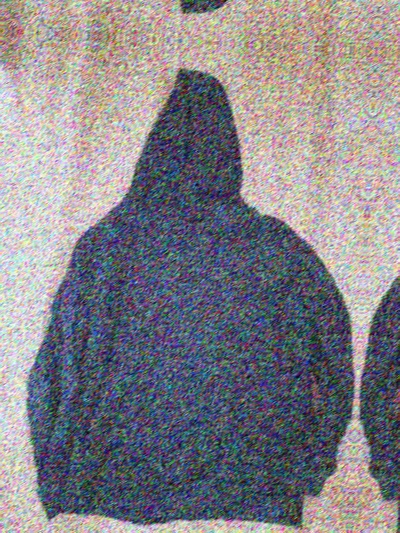Hoodie: (15, 64, 373, 529), (352, 83, 400, 533), (44, 0, 400, 21), (381, 0, 400, 40)
